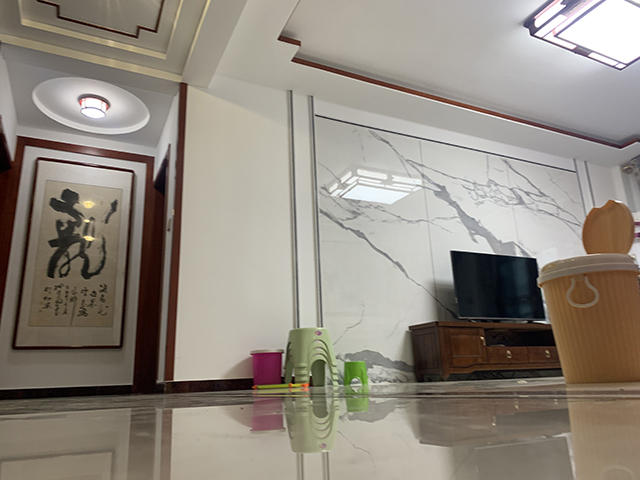cabinet: (407, 319, 562, 382)
stool: (283, 326, 339, 387), (343, 361, 368, 386)
trashcan: (536, 199, 640, 384), (249, 347, 285, 386)
